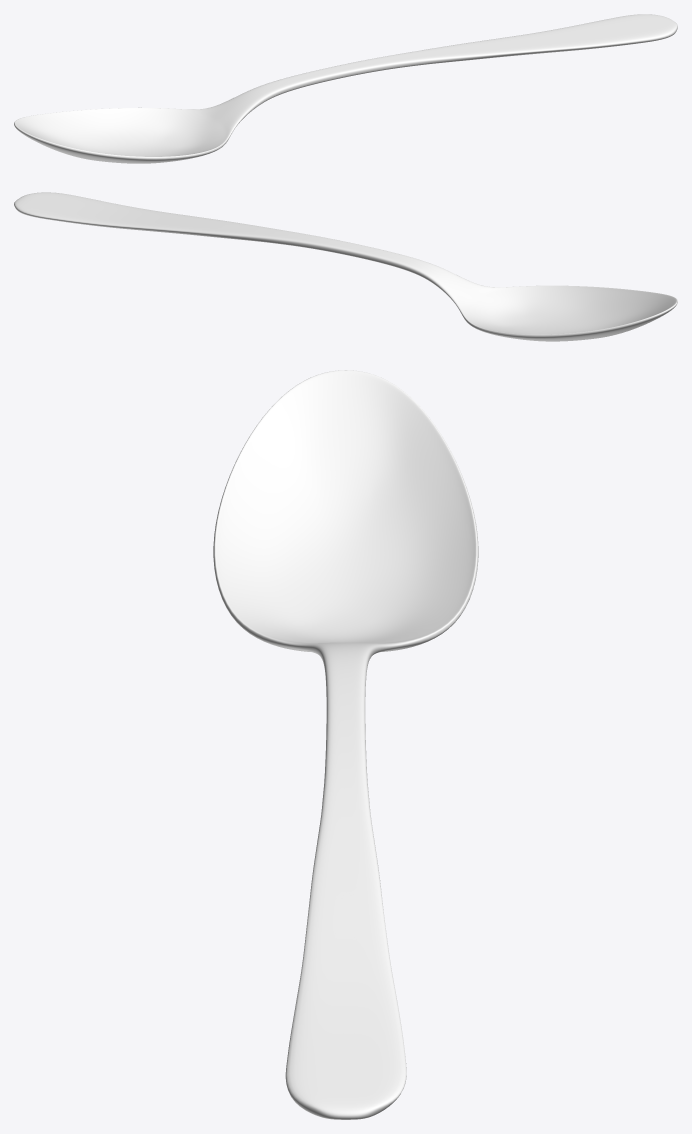
Rendered from uploads_files_5450612_cgt_fmcg_cutlery_020.glb.
The picture shows the model from 3 angles, top to bottom: view 1: azimuth 30°, elevation 25°; view 2: azimuth 150°, elevation 25°; view 3: azimuth 270°, elevation 25°; orthographic projection. The views are drawn at different scales.
Parts seen in each view (by area): view 1: fmcg_cutlery_020_mesh; view 2: fmcg_cutlery_020_mesh; view 3: fmcg_cutlery_020_mesh.
Part boxes in pixels (x1,y1,x2,y2): fmcg_cutlery_020_mesh: (14, 14, 677, 163); fmcg_cutlery_020_mesh: (14, 192, 677, 341); fmcg_cutlery_020_mesh: (213, 370, 478, 1119).
Size of the model in its own units: 0.2 by 0.0165 by 0.035.
1 material, 1 textured.
